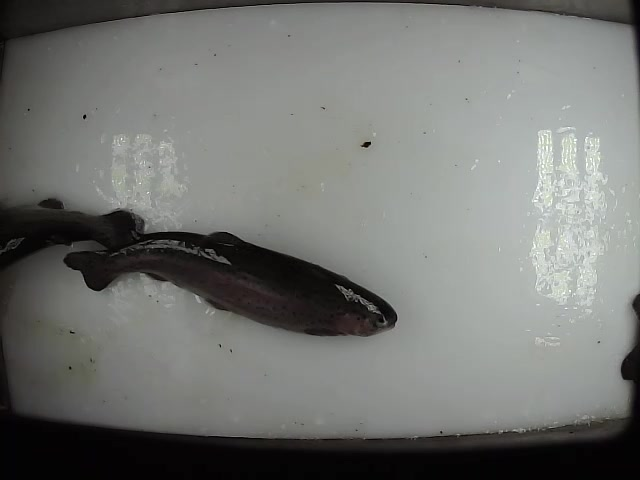fish: (61, 229, 399, 339), (1, 198, 147, 277)
